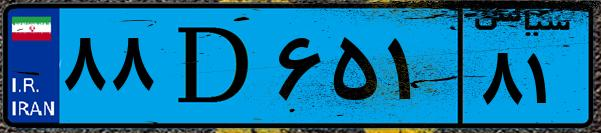1: (385, 28, 445, 110), (525, 38, 570, 115)
5: (330, 28, 385, 110)
6: (270, 28, 330, 110)
8: (57, 26, 110, 100), (475, 38, 525, 113), (110, 28, 158, 98)
D: (158, 12, 270, 120)
